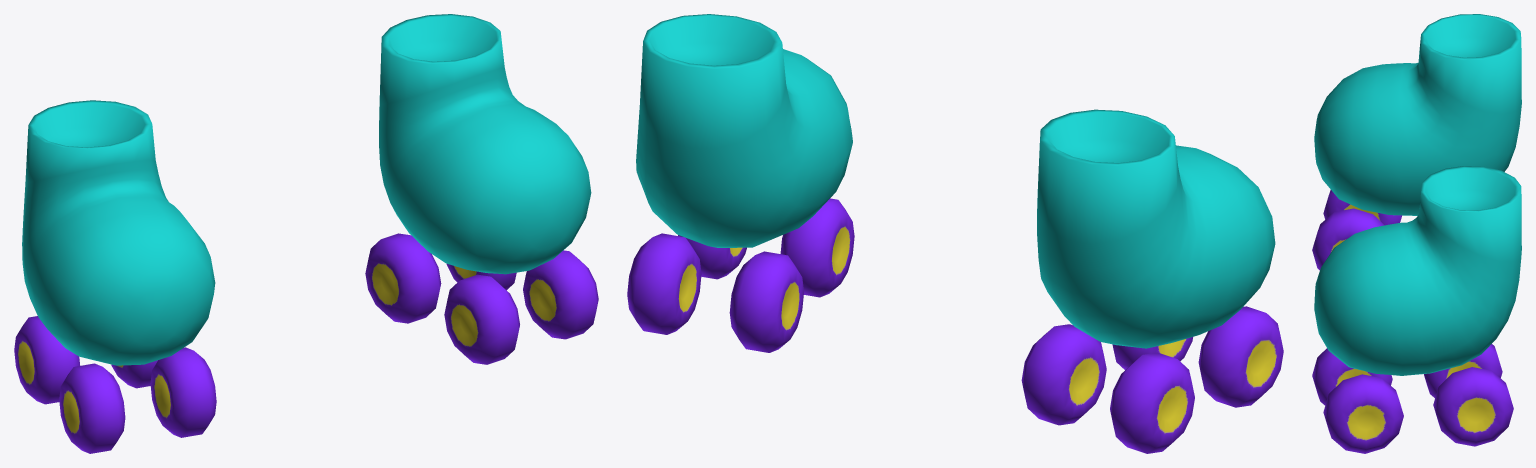
File: RollerSkates.fbx
3 views of the same model, side by side, from view 1: azimuth 30°, elevation 25°; view 2: azimuth 150°, elevation 25°; view 3: azimuth 270°, elevation 25° (orthographic). The views are drawn at different scales.
Visible parts, largest first — view 1: RollerSkates; view 2: RollerSkates; view 3: RollerSkates.
Boxes of the visible parts, x1,y1,x2,y2 form: RollerSkates: (14,14,598,453); RollerSkates: (627,14,1283,453); RollerSkates: (1312,14,1521,453).
Bounding box in the file's own units: 0.1217 × 0.0471 × 0.0583.
